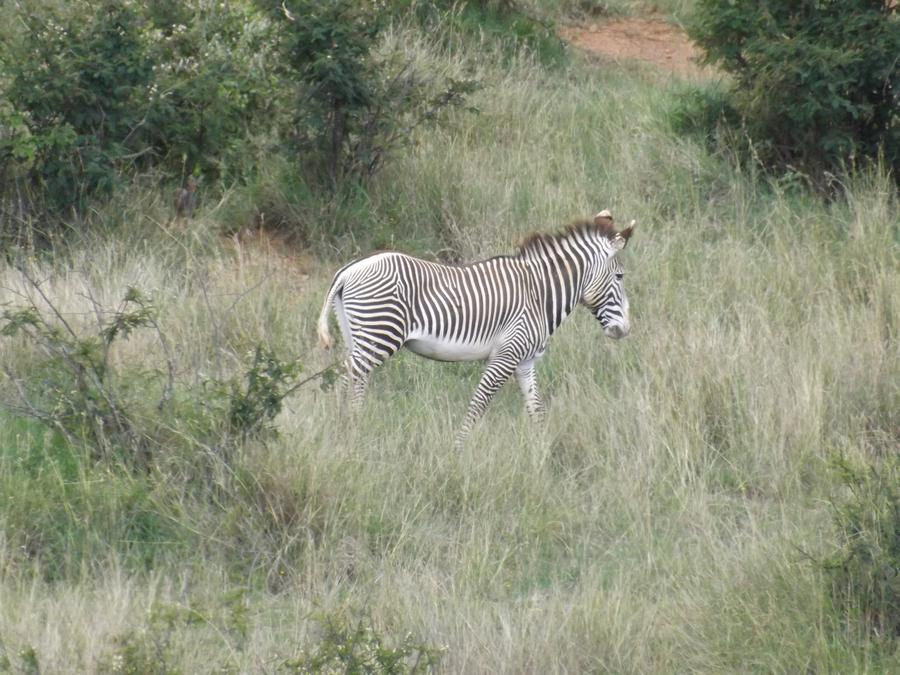zebra_grevys: (332, 237, 551, 360)
